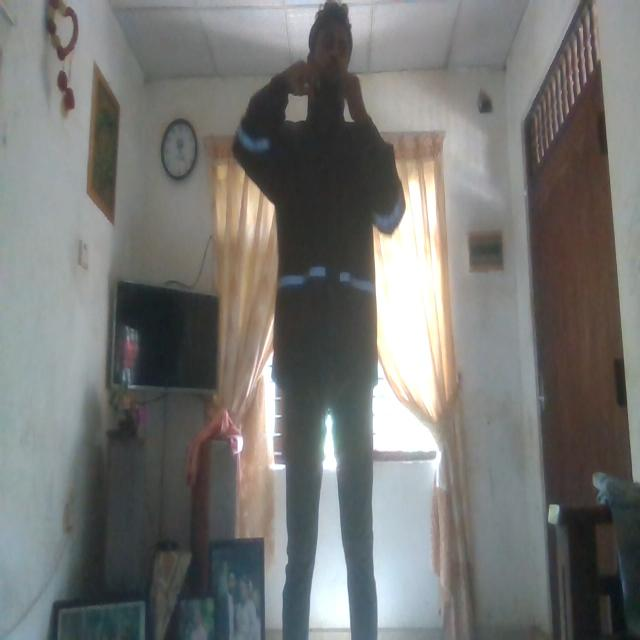Jacket_Wearer: (240, 86, 406, 396)
Person: (238, 2, 410, 640)
